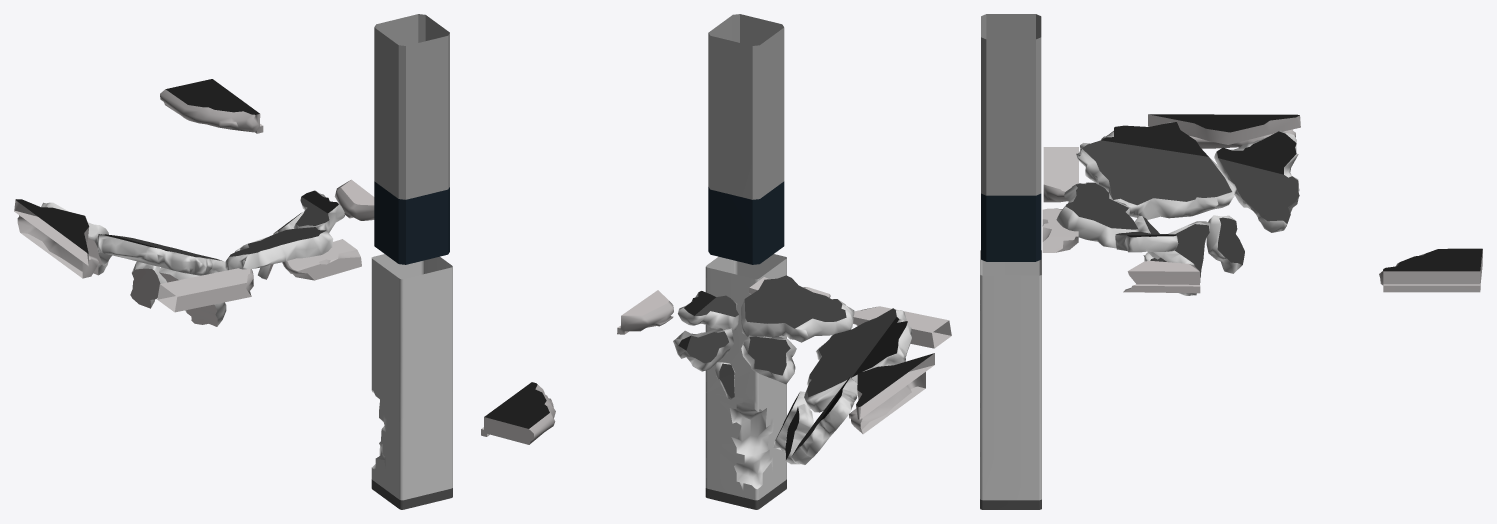
File: SM_H_Building_Tide_Bathhouse_01E_ATLAS.fbx
3 renders of one model, left to right at view 1: azimuth 30°, elevation 25°; view 2: azimuth 150°, elevation 25°; view 3: azimuth 270°, elevation 25°, orthographic.
Parts seen in each view (by area): view 1: SM_H_Building_Tide_Bathhouse_01E_ATLAS; view 2: SM_H_Building_Tide_Bathhouse_01E_ATLAS; view 3: SM_H_Building_Tide_Bathhouse_01E_ATLAS.
Part boxes in pixels (<box>): SM_H_Building_Tide_Bathhouse_01E_ATLAS: <box>14,14,452,509</box>; SM_H_Building_Tide_Bathhouse_01E_ATLAS: <box>481,14,951,509</box>; SM_H_Building_Tide_Bathhouse_01E_ATLAS: <box>980,14,1482,509</box>.
Size of the model in its own units: 631 by 926 by 955.
